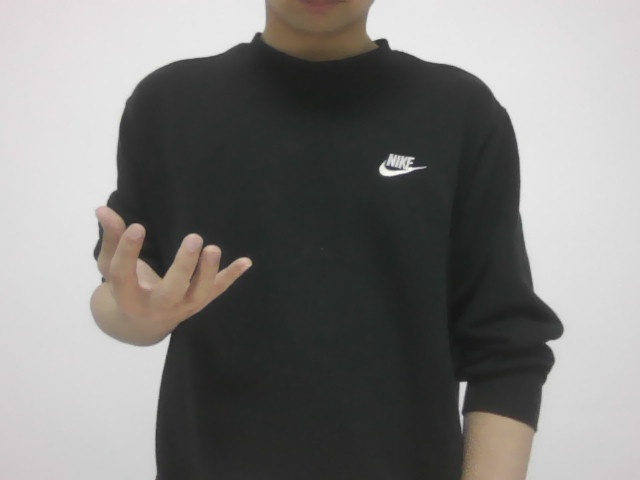flavor: (59, 208, 249, 328)
